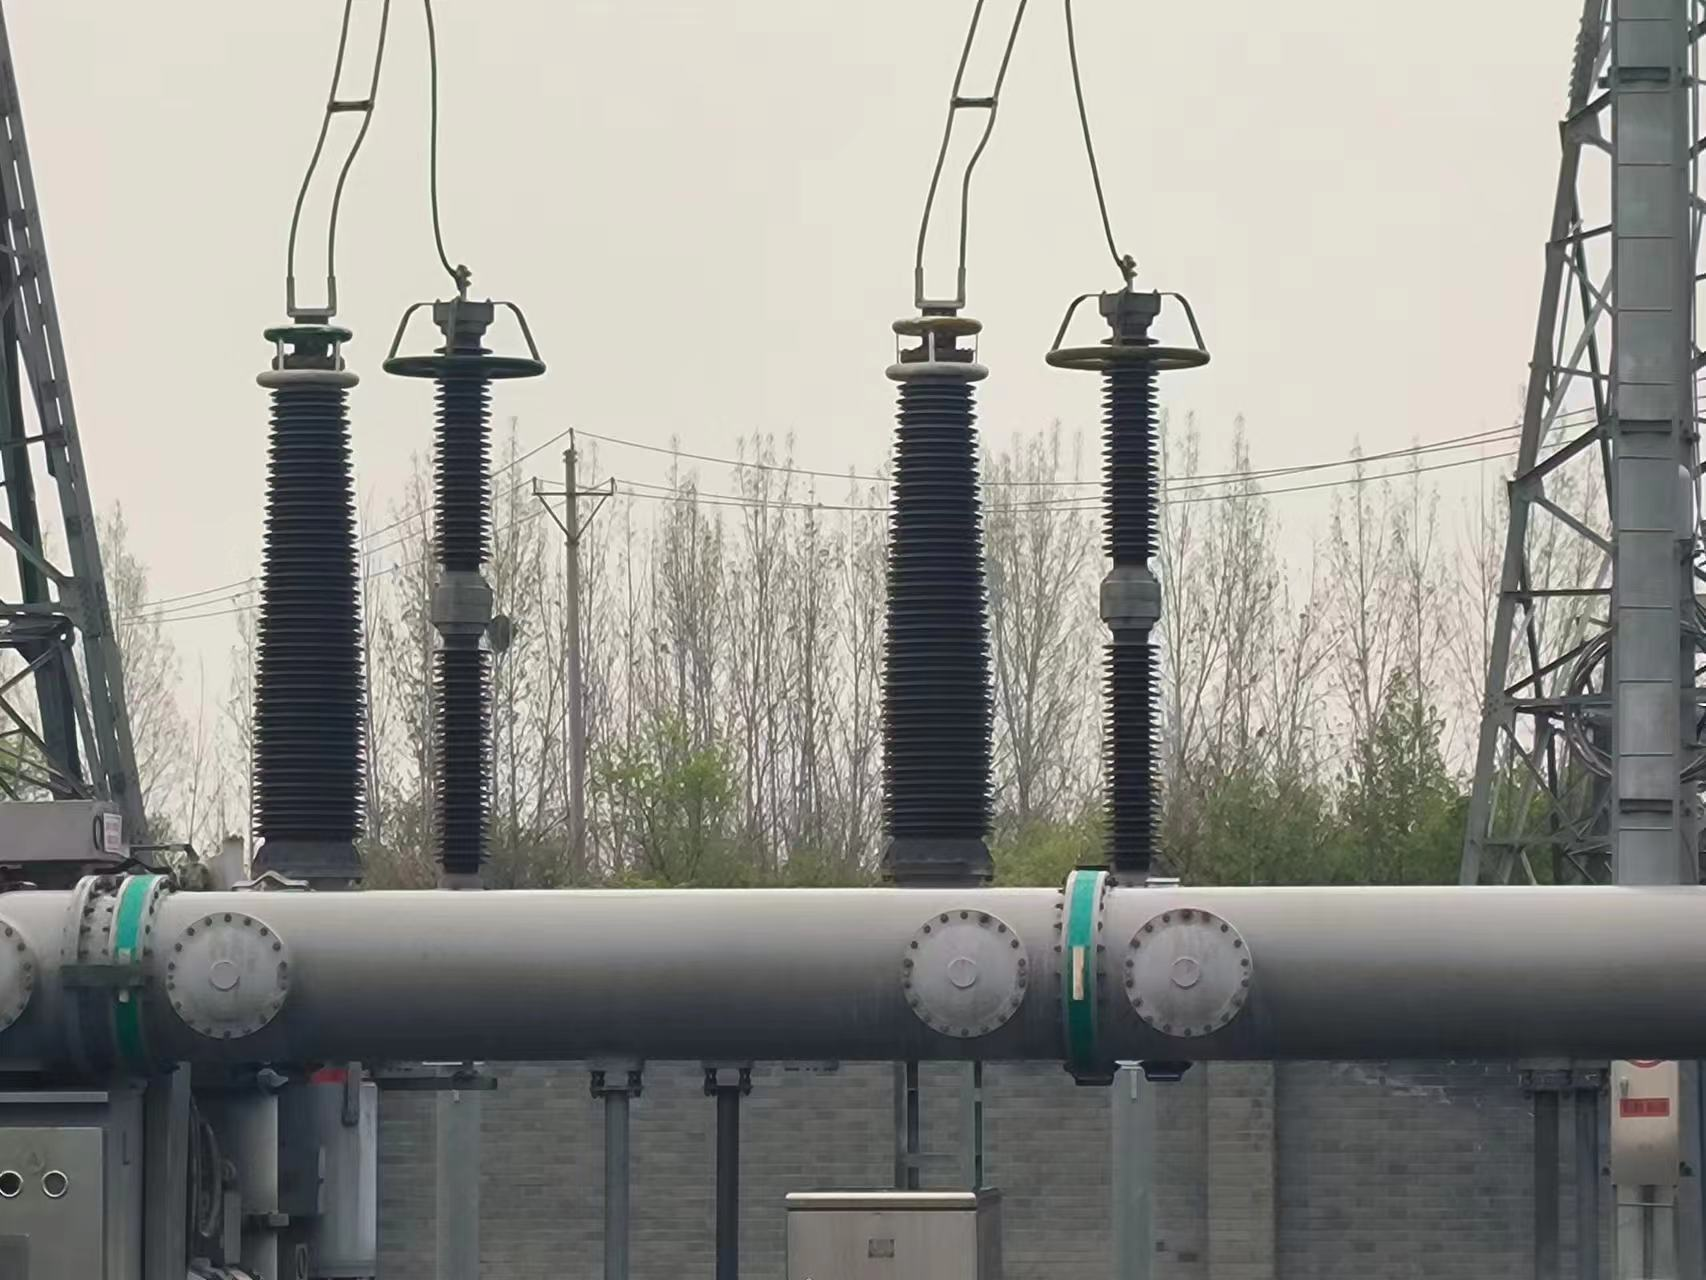Arrester: (380, 290, 551, 882), (1043, 285, 1213, 869)
Voltage transformer: (872, 315, 999, 882), (247, 321, 364, 875)
